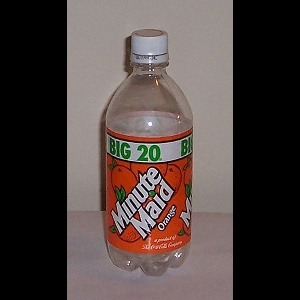emptybottle: (105, 29, 193, 276)
